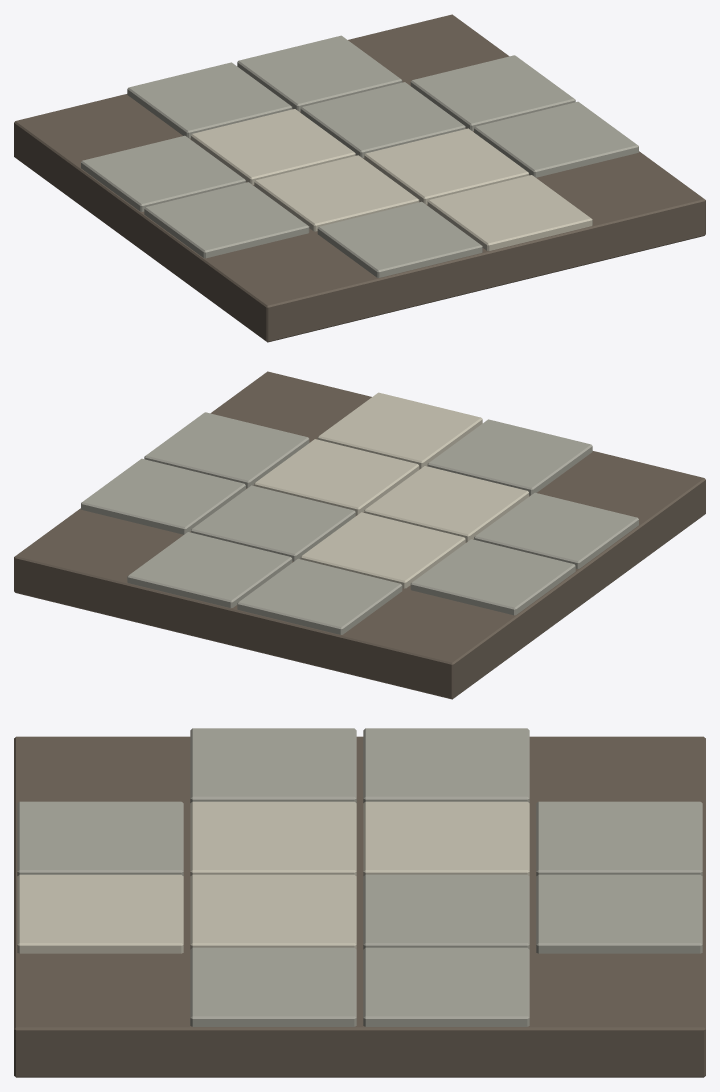
The model's file is floor_paving.glb.
3 views of the same model, one above another, from view 1: azimuth 30°, elevation 25°; view 2: azimuth 150°, elevation 25°; view 3: azimuth 270°, elevation 25° (orthographic). The views are drawn at different scales.
Visible parts, largest first — view 1: TV_floor_paving; view 2: TV_floor_paving; view 3: TV_floor_paving.
Part boxes in pixels (x1=…): TV_floor_paving: x1=14, y1=14, x2=705, y2=342; TV_floor_paving: x1=14, y1=371, x2=705, y2=699; TV_floor_paving: x1=14, y1=728, x2=705, y2=1077.
Bounding box in the file's own units: 4 × 0.3825 × 4.
